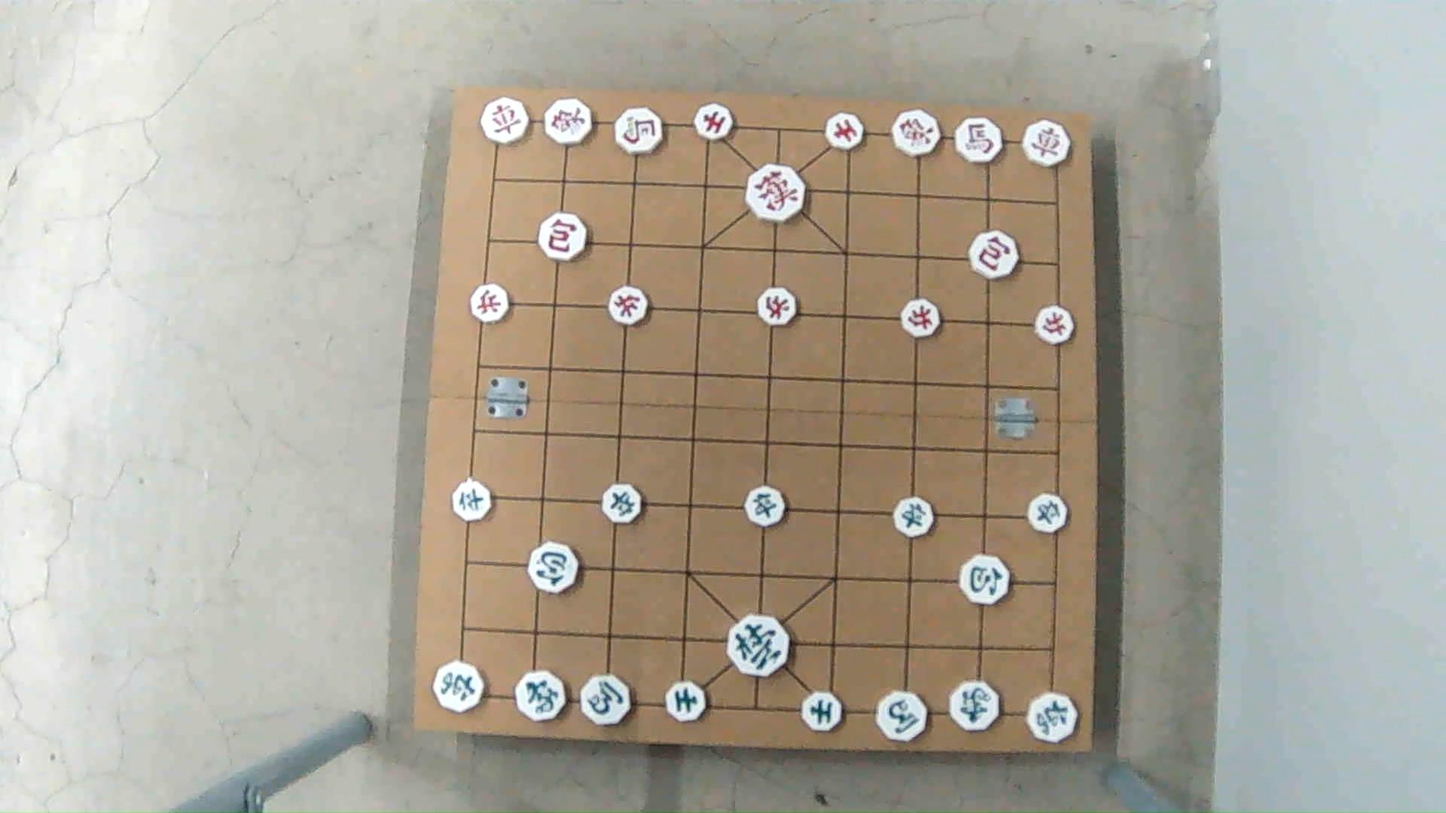cha_green: (1026, 694, 1081, 742), (430, 664, 484, 710)
cha_red: (1020, 121, 1072, 166), (479, 102, 532, 144)
jol_green: (892, 500, 937, 537), (600, 486, 646, 522), (448, 483, 493, 519), (744, 487, 789, 523), (1027, 497, 1069, 531)
jol_red: (606, 288, 650, 323), (755, 289, 798, 324), (1034, 309, 1078, 343), (468, 288, 512, 322), (903, 303, 945, 337)
ma_green: (579, 675, 634, 724), (874, 694, 929, 741)
ma_red: (612, 110, 666, 153), (952, 120, 1005, 163)
po_green: (523, 544, 579, 590), (958, 556, 1011, 602)
po_red: (968, 234, 1020, 277), (535, 215, 586, 257)
sa_green: (666, 681, 709, 720), (801, 695, 844, 732)
sa_red: (694, 105, 736, 141), (822, 115, 864, 150)
sang_green: (510, 671, 569, 720), (947, 684, 1002, 733)
sang_red: (546, 99, 595, 145), (889, 114, 939, 157)
wang_green: (729, 617, 795, 674)
wang_red: (743, 167, 807, 218)
